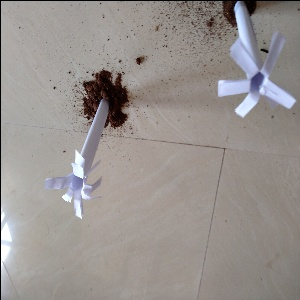weed: (209, 1, 297, 118), (44, 96, 117, 215)
